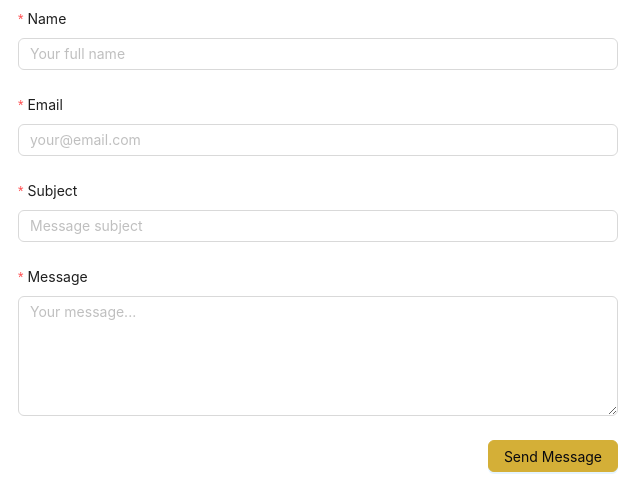
Scenario: ContactForm › name less than 2 chars shows length error
Type "A" into the field with placeholder "Your full name".
click(318, 54); type("A")  # box [18,38,618,70]
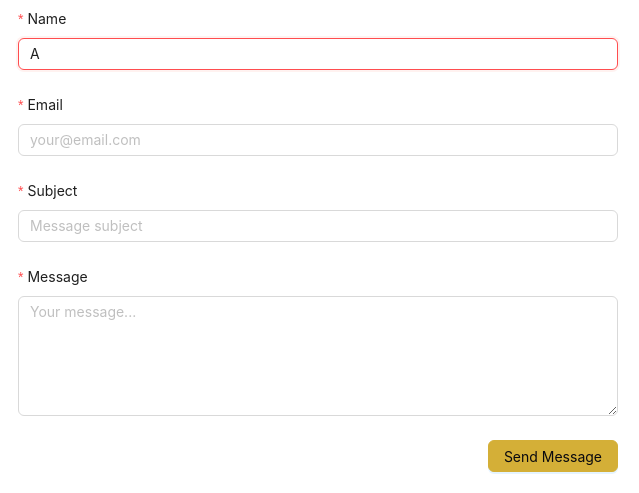
Click the button "Send Message".
click(553, 456)  # box [488,440,618,472]
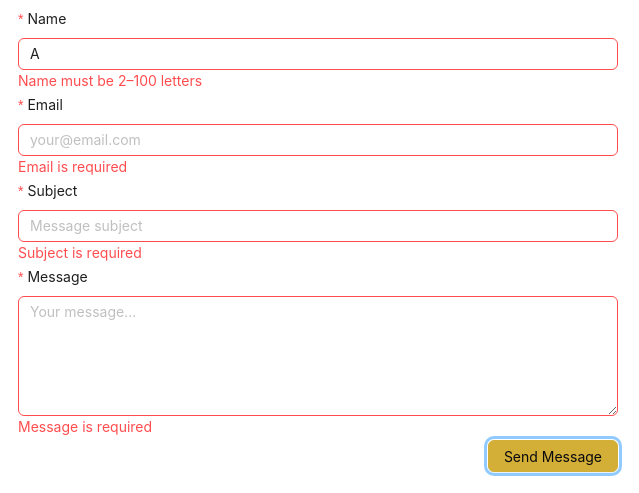
Expected: the text "Name must be 2–100 letters" is shown, [18,72,202,89]
